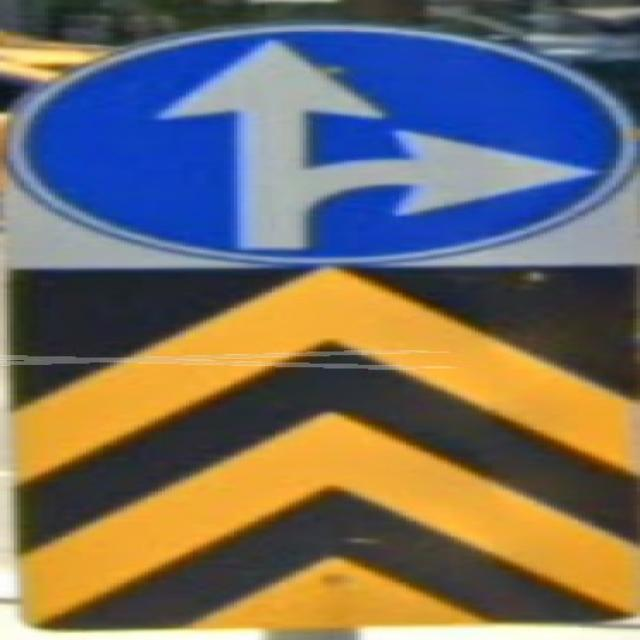Straight or Right: (15, 27, 627, 262)
